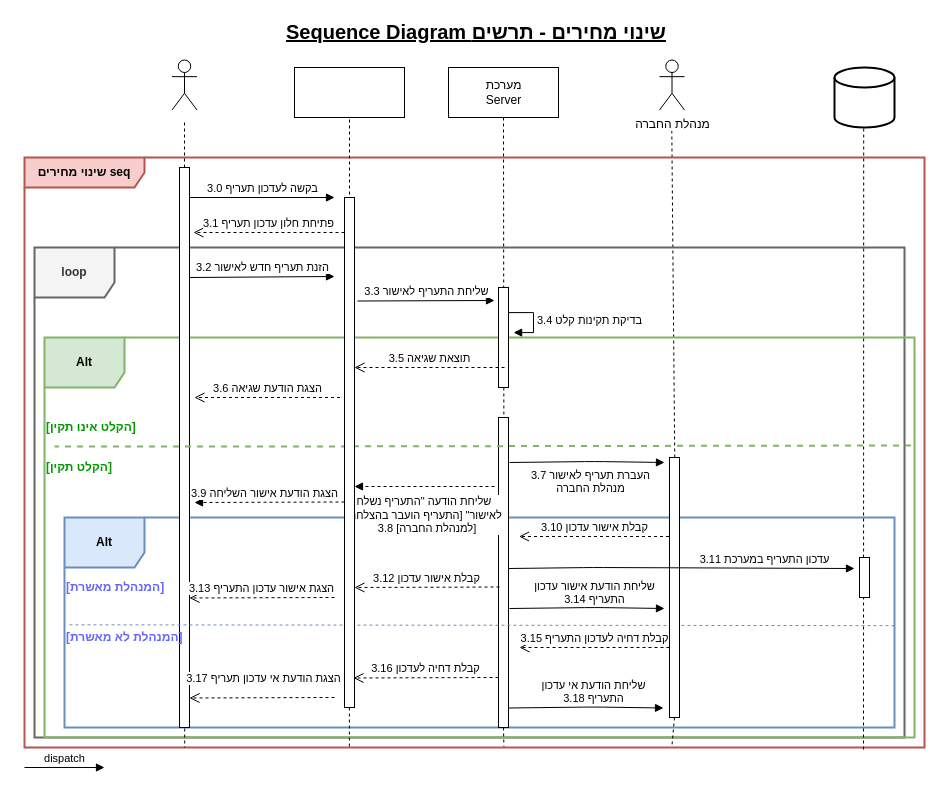
The diagram is 943 pixels wide and 793 high, and some of its shapes have lost their labels. Here are the shapes that lost their labels. From the top down, the centre of each, then its label:
[184,84]: מנהלת מחלקת התוכן
[349,92]: מערכת Client
[864,97]: ארכיב המידע
